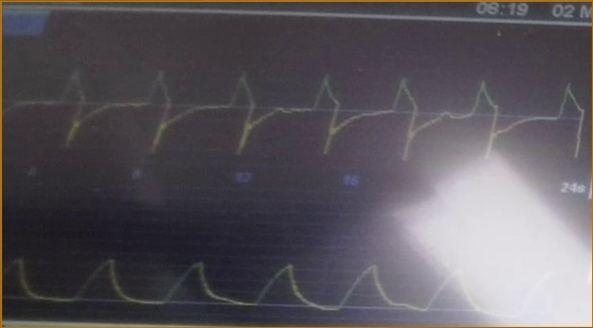Ineffective_effort Flow: (5, 59, 586, 164)
Ineffective_effort Volume: (3, 240, 547, 319)
